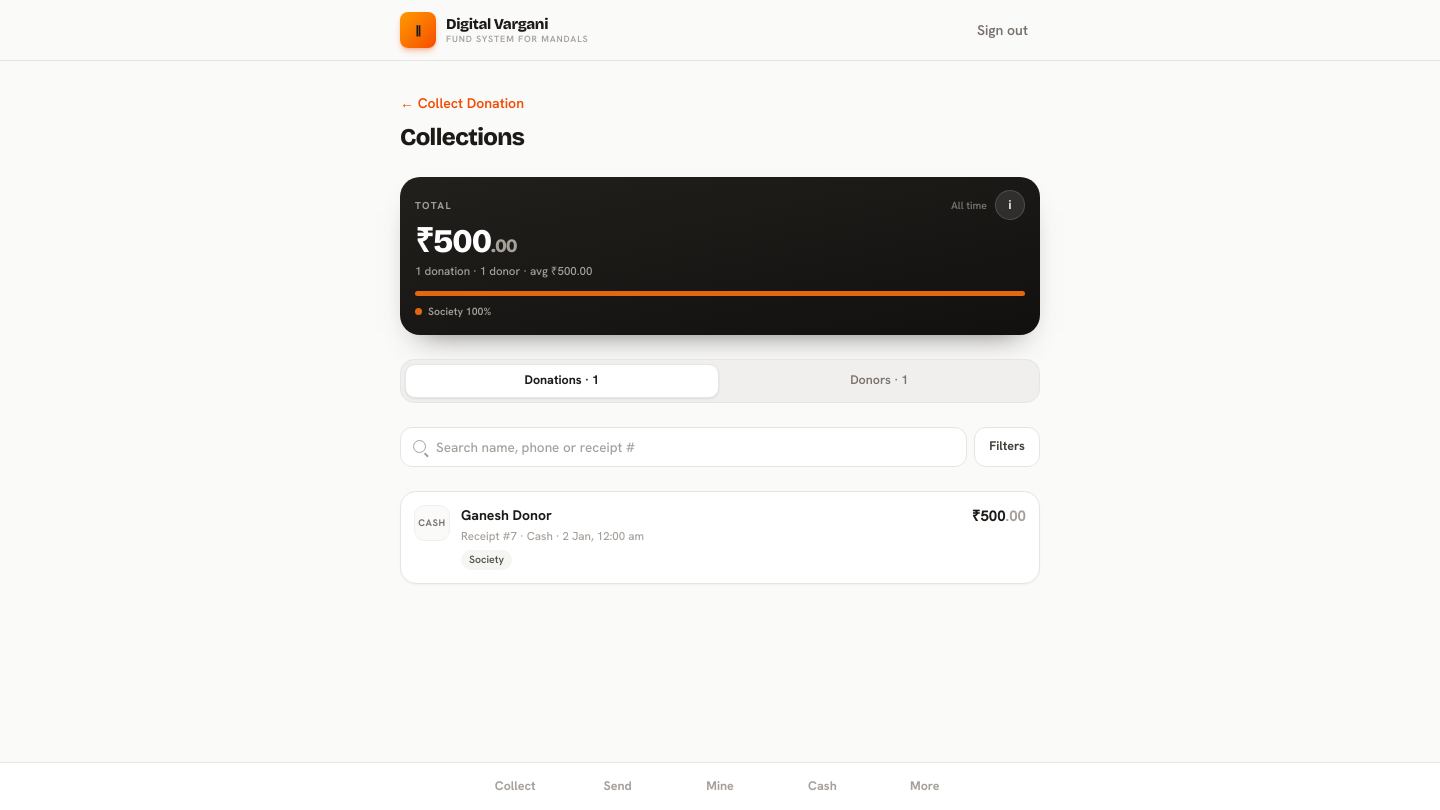
CollectionsContent — the Collections & donors tab › opens a row detail sheet with the donor contact, collector and receipt link
Expected: the text "Ganesh Donor" is shown, [461,506,552,524]
Click the button "Ganesh Donor" at (432, 523), box [400,491,1040,584]
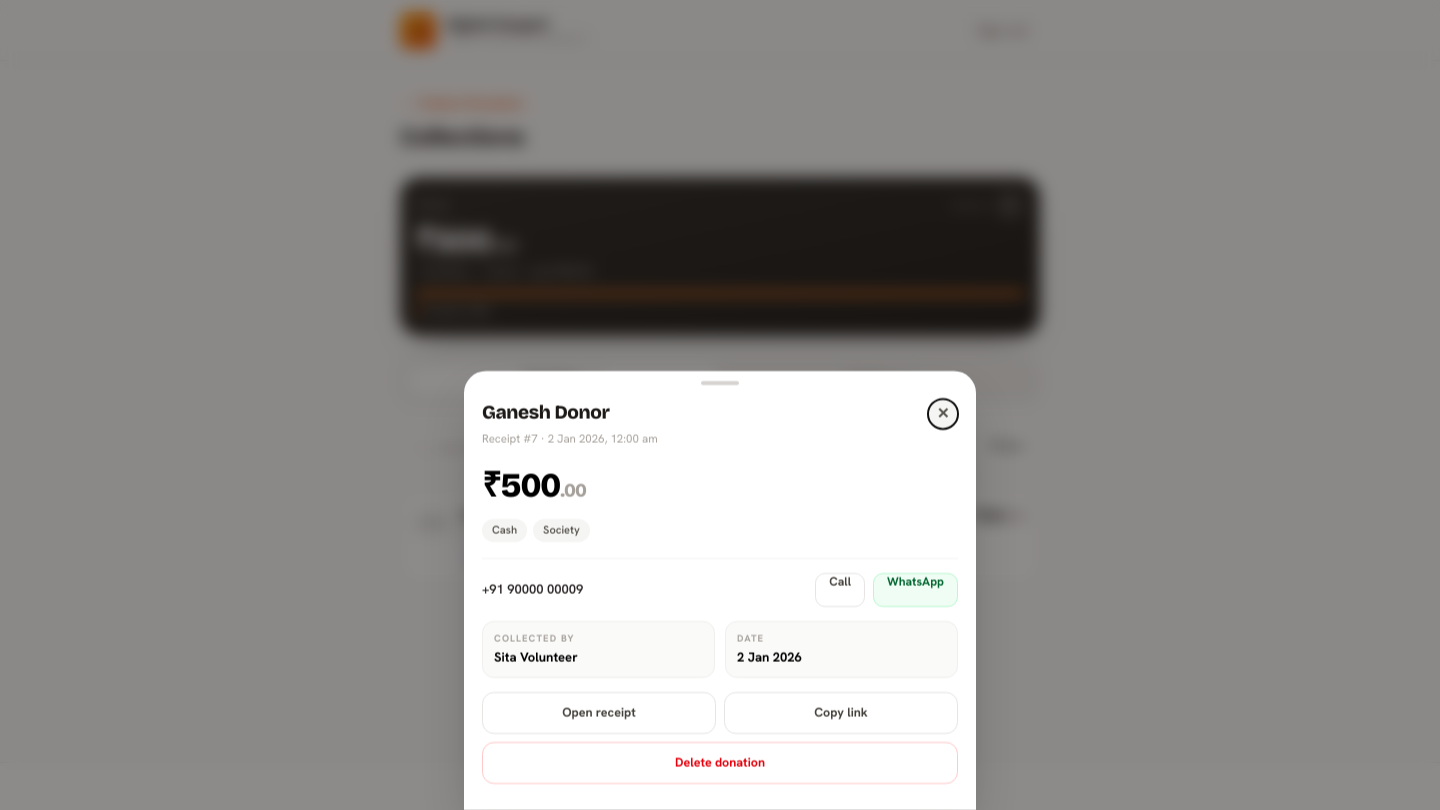
Now the heading "Ganesh Donor" is shown, box [482,401,610,424]
Now the text "Sita Volunteer" is shown, box [494,648,578,666]
